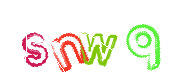9: (83, 0, 163, 80)
N: (43, 0, 123, 80)
S: (14, 0, 94, 80)
W: (57, 0, 137, 80)
